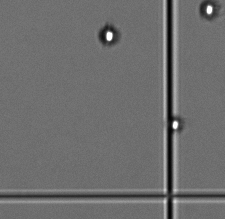Living Cell: (97, 22, 120, 47), (200, 1, 216, 21), (168, 116, 183, 133)
